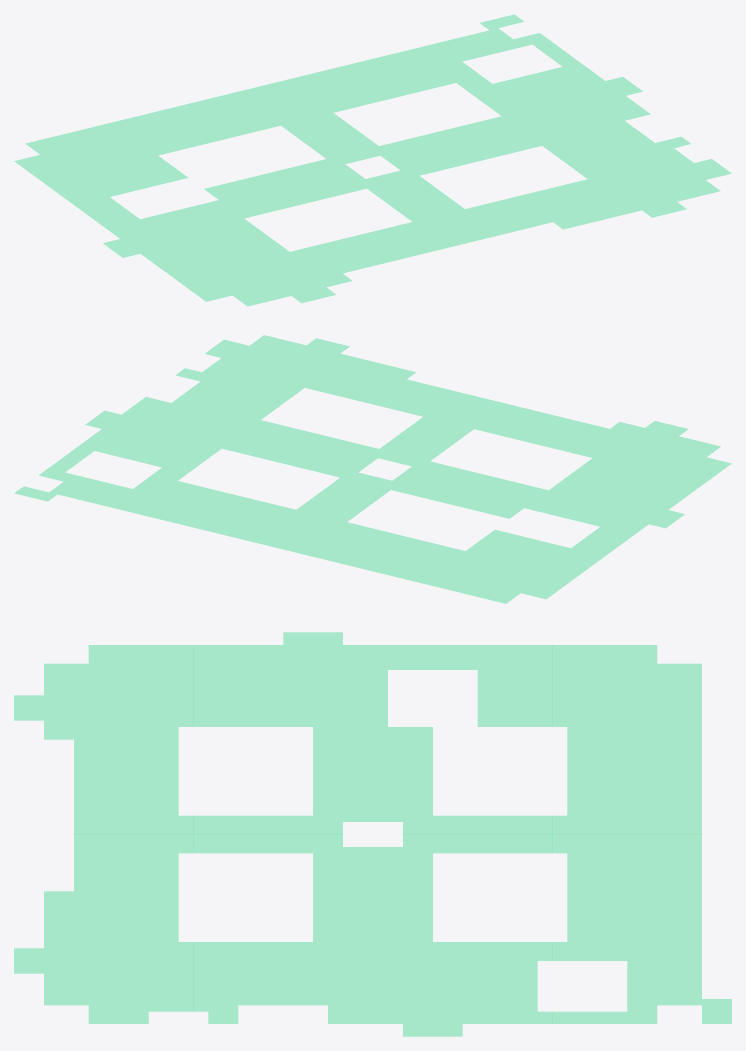
File: navmesh.glb
3 views of the same model, one above another, from view 1: azimuth 30°, elevation 25°; view 2: azimuth 150°, elevation 25°; view 3: azimuth 270°, elevation 25° (orthographic). The views are drawn at different scales.
Visible parts, largest first — view 1: NAVMESH; view 2: NAVMESH; view 3: NAVMESH.
Part boxes in pixels (box(x1,y1,x2,y2)): NAVMESH: box(14, 14, 731, 306); NAVMESH: box(14, 335, 731, 603); NAVMESH: box(14, 632, 731, 1036).
Bounding box in the file's own units: 16 × 0 × 12.
